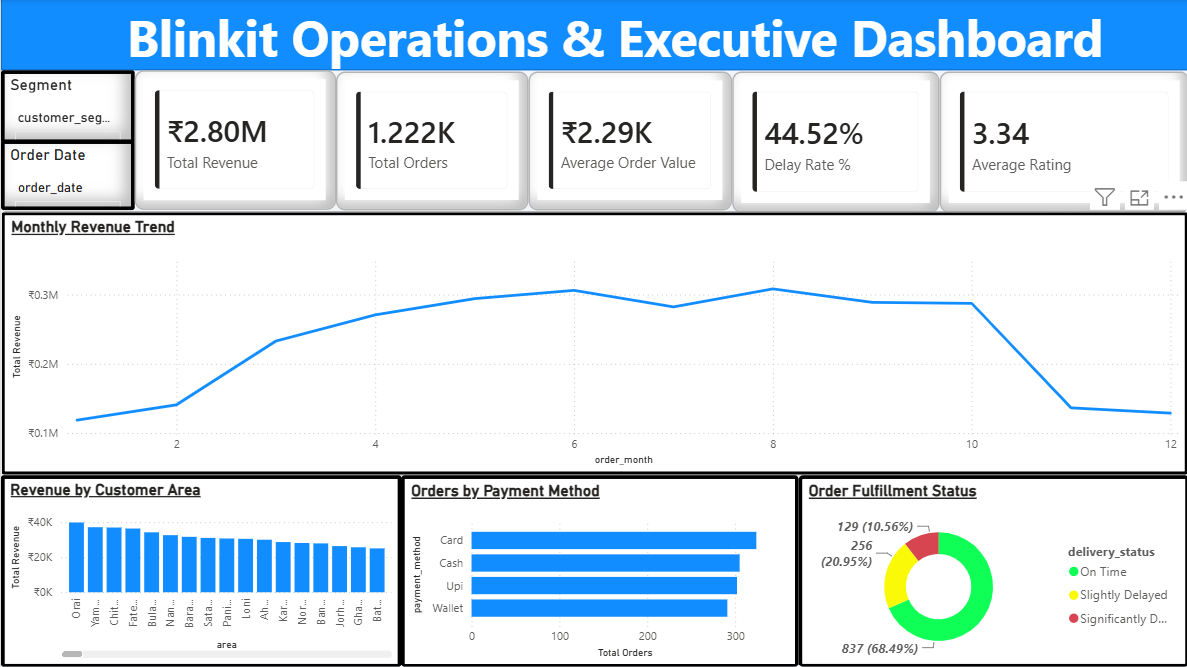

This screenshot's page, from the dashboard's own definition file:
{"tool":"powerbi","page":{"name":"Blinkit Executive Overview Dashboard","canvas":[1280,720],"ordinal":0},"visuals":[{"type":"shape","box":[0,0,1280.3,76.7],"z":0},{"type":"textbox","box":[130.4,0,1070.3,96.1],"z":1000},{"type":"slicer","title":"Order Date","fields":{"Values":["transformed_orders.order_date"]},"box":[0,152.1,144,75.4],"z":2000},{"type":"slicer","title":"Segment","fields":{"Values":["transformed_customers.customer_segment"]},"box":[0,76.7,144,78.1],"z":3000},{"type":"cardVisual","fields":{"Data":["Measures (2).Total Revenue"]},"box":[144,76.7,216.7,150.8],"z":4000},{"type":"cardVisual","fields":{"Data":["Measures (2).Total Orders"]},"box":[360.8,78.1,207.3,149.4],"z":5000},{"type":"cardVisual","fields":{"Data":["Measures (2).Average Order Value"]},"box":[568.1,78.1,219.4,149.4],"z":6000},{"type":"cardVisual","fields":{"Data":["Measures (2).Delay Rate %"]},"box":[787.5,78.1,223.5,152.1],"z":7000},{"type":"cardVisual","fields":{"Data":["Measures (2).Average Rating"]},"box":[1011,78.1,269.2,152.1],"z":8000},{"type":"lineChart","title":"Monthly Revenue Trend","fields":{"Y":["Measures (2).Total Revenue"],"Category":["transformed_orders.order_month"]},"box":[0,228.9,1280.3,284.1],"z":9000},{"type":"donutChart","title":"Order Fulfillment Status","fields":{"Category":["transformed_orders.delivery_status"],"Y":["Measures (2).Total Orders"]},"box":[858.9,512.9,421.4,207.3],"z":10000},{"type":"clusteredBarChart","title":"Orders by Payment Method","fields":{"Category":["transformed_orders.payment_method"],"Y":["Measures (2).Total Orders"]},"box":[430.8,512.9,428.1,207.3],"z":11000},{"type":"clusteredColumnChart","title":"Revenue by Customer Area","fields":{"Category":["transformed_customers.area"],"Y":["Measures (2).Total Revenue"]},"box":[0,513,431,207],"z":12000}]}

Visuals, with their boxes in screenshot pixels (x1, y1, x2, y2), scaled from the page's 1280x720 canvas onto the 1187x667 screenshot:
shape: x1=0, y1=0, x2=1186, y2=71
textbox: x1=121, y1=0, x2=1113, y2=89
"Order Date" slicer: x1=0, y1=141, x2=134, y2=211
"Segment" slicer: x1=0, y1=71, x2=134, y2=143
cardVisual - Measures (2).Total Revenue: x1=134, y1=71, x2=334, y2=211
cardVisual - Measures (2).Total Orders: x1=335, y1=72, x2=527, y2=211
cardVisual - Measures (2).Average Order Value: x1=527, y1=72, x2=730, y2=211
cardVisual - Measures (2).Delay Rate %: x1=730, y1=72, x2=938, y2=213
cardVisual - Measures (2).Average Rating: x1=938, y1=72, x2=1186, y2=213
"Monthly Revenue Trend" lineChart: x1=0, y1=212, x2=1186, y2=475
"Order Fulfillment Status" donutChart: x1=796, y1=475, x2=1186, y2=666
"Orders by Payment Method" clusteredBarChart: x1=399, y1=475, x2=796, y2=666
"Revenue by Customer Area" clusteredColumnChart: x1=0, y1=475, x2=400, y2=666
